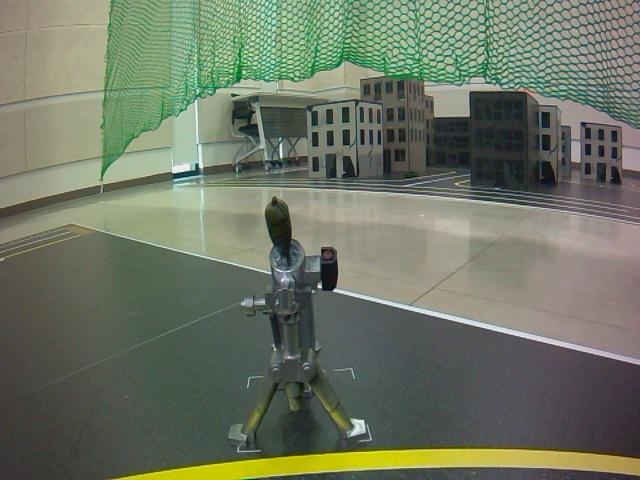Mortar: (226, 192, 375, 451)
